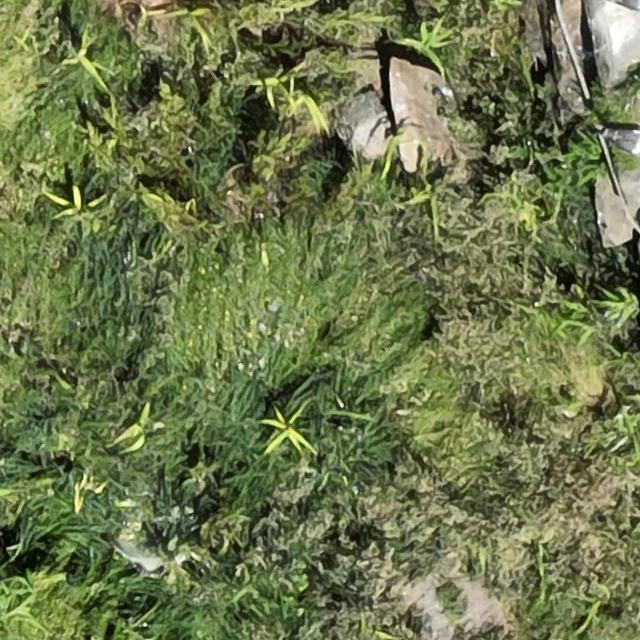umineko: (610, 128, 640, 154)
